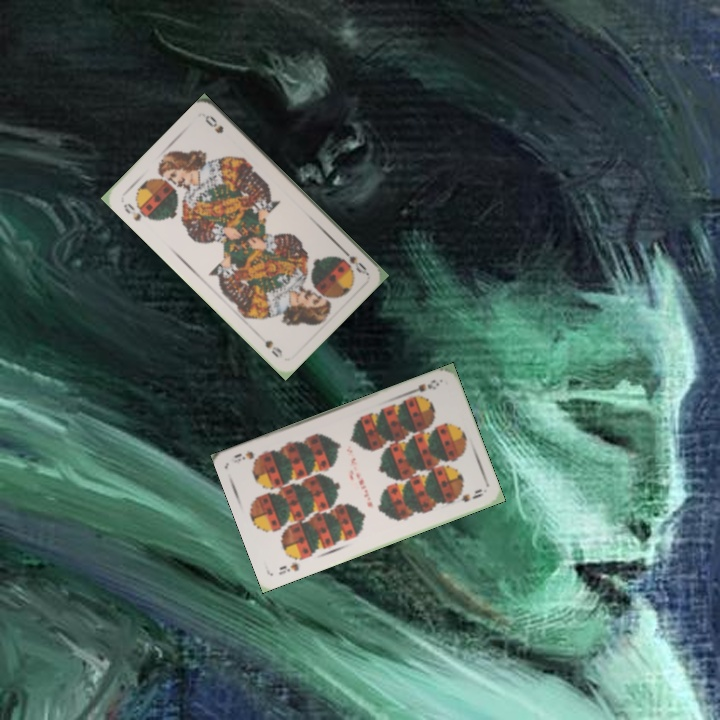S9: (404, 376, 442, 397), (275, 558, 302, 577)
SO: (337, 243, 369, 277), (119, 199, 154, 224)
